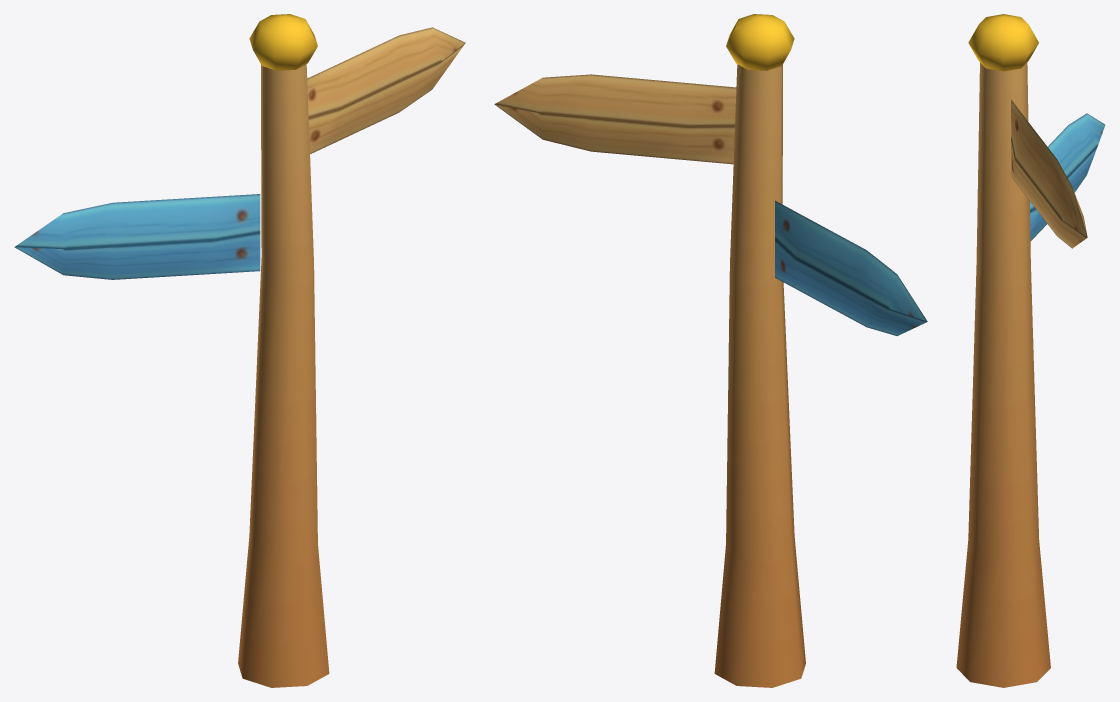
File: signpost.glb
3 renders of one model, left to right at view 1: azimuth 30°, elevation 25°; view 2: azimuth 150°, elevation 25°; view 3: azimuth 270°, elevation 25°, orthographic.
Visible parts, largest first — view 1: signpost; view 2: signpost; view 3: signpost.
Part boxes in pixels (box(x1,y1,x2,y2)): signpost: box(14, 14, 465, 687); signpost: box(494, 14, 927, 687); signpost: box(956, 14, 1105, 687).
Size of the model in its own units: 2.16 by 3.04 by 0.6309.
1 material, 1 textured.
